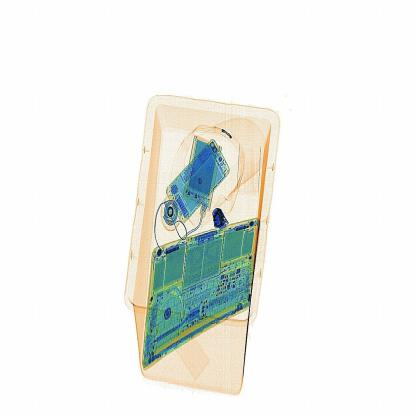scissors: (204, 203, 235, 236)
